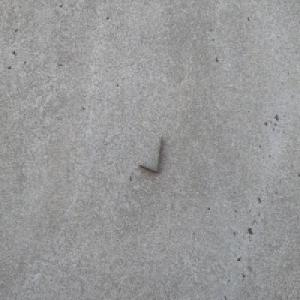MetalPart: (139, 134, 164, 173)
